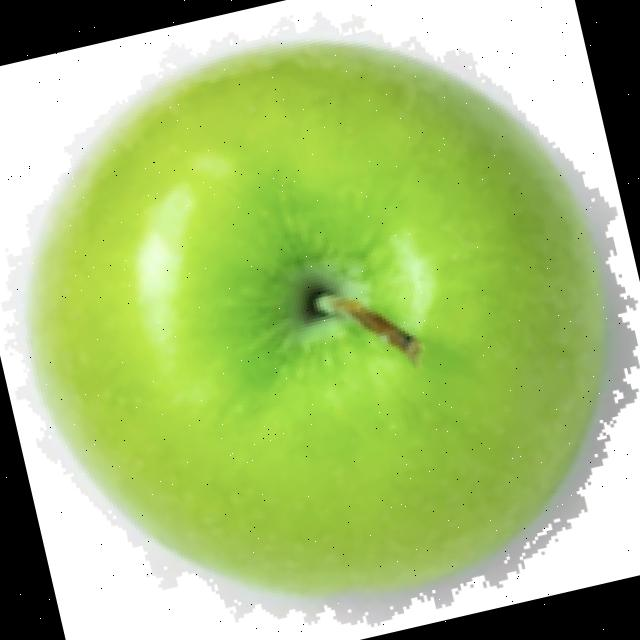apple: (0, 8, 640, 627)
